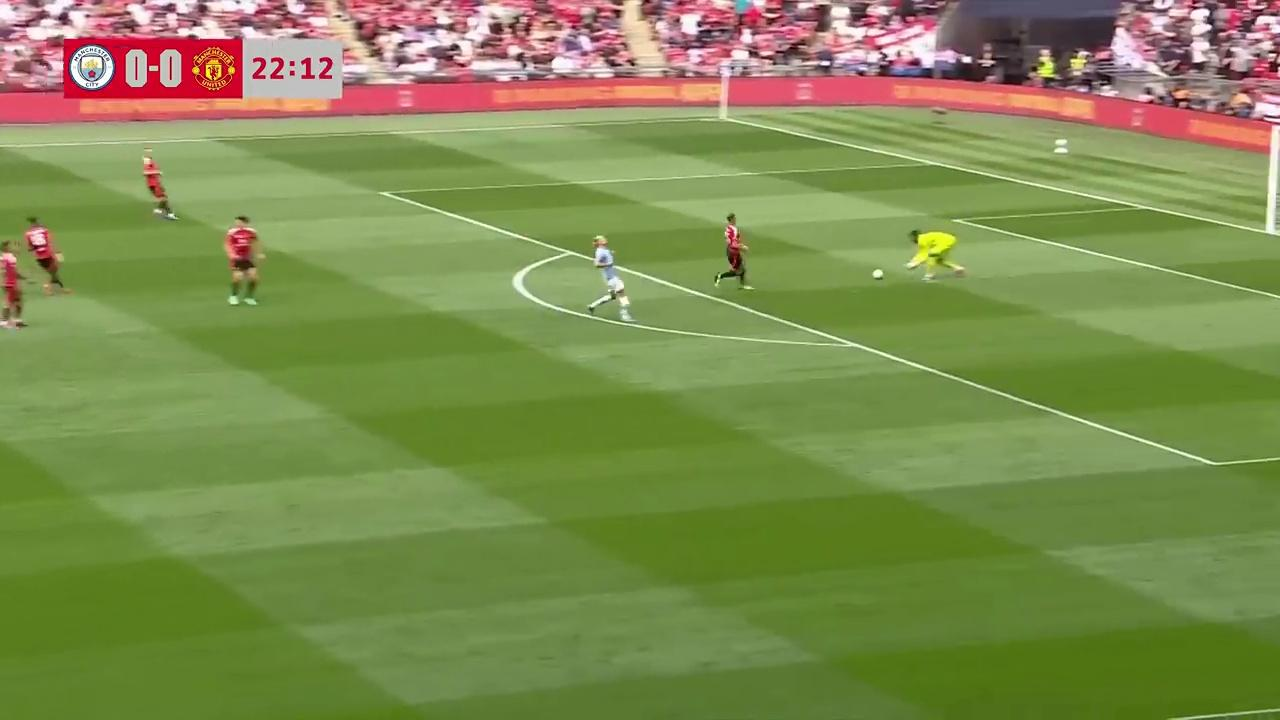ball: (870, 265, 885, 282)
player: (23, 216, 70, 296), (589, 237, 632, 321), (224, 215, 263, 307), (906, 226, 966, 281), (712, 213, 752, 290), (141, 152, 176, 221), (0, 242, 26, 330)
